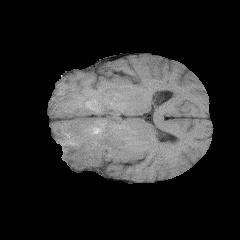glioma: (52, 98, 131, 167)
